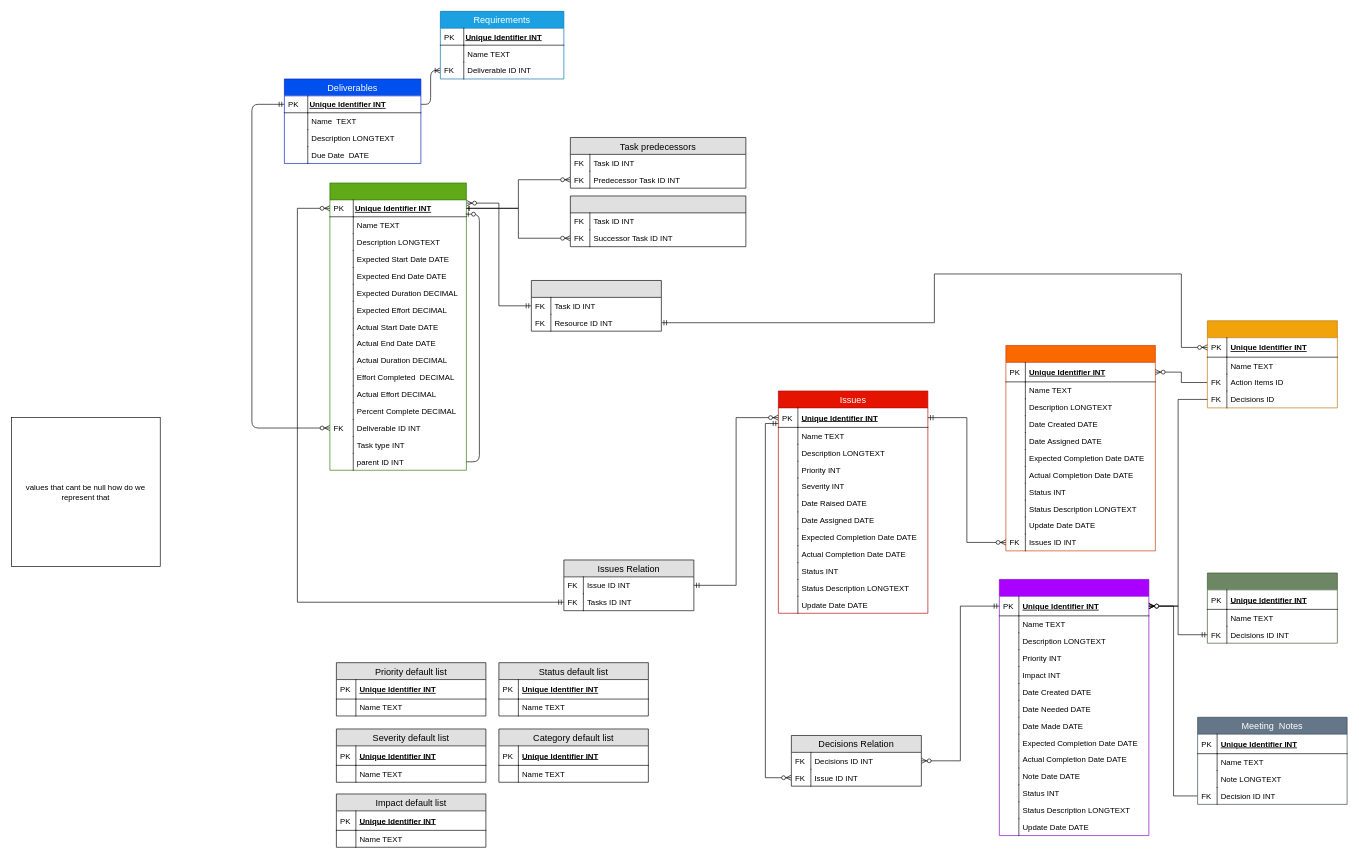
Image size: 1359x861. Some labels were removed from this diagram. Each missing label, with the box of its shape:
Action Items: (1005, 345, 1155, 551)
Decisions: (999, 579, 1149, 836)
Reference Documents: (1207, 572, 1337, 643)
Resources: (1207, 320, 1337, 408)
Task successors: (570, 195, 746, 247)
Tasks: (329, 182, 466, 470)
Tasks to Resources Relation: (531, 280, 661, 331)
